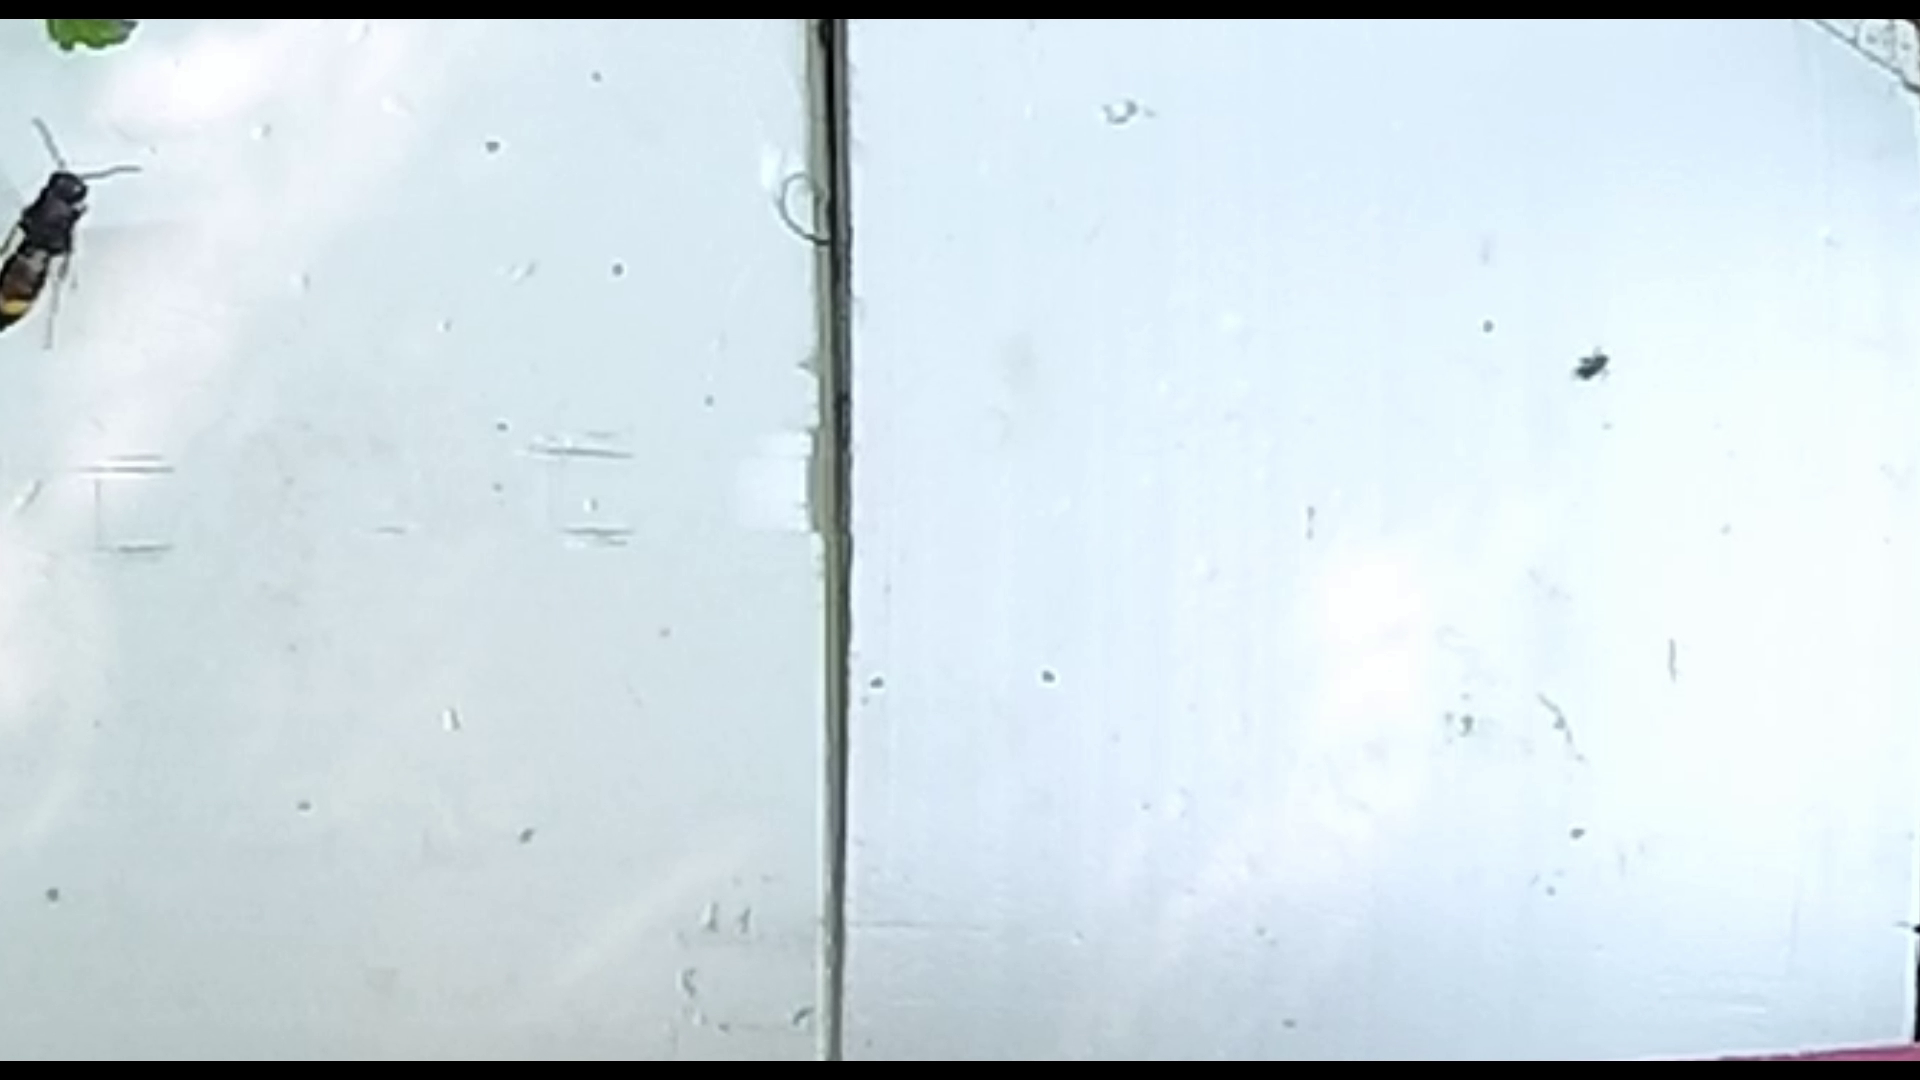Asian_hornets: (0, 108, 148, 356)
